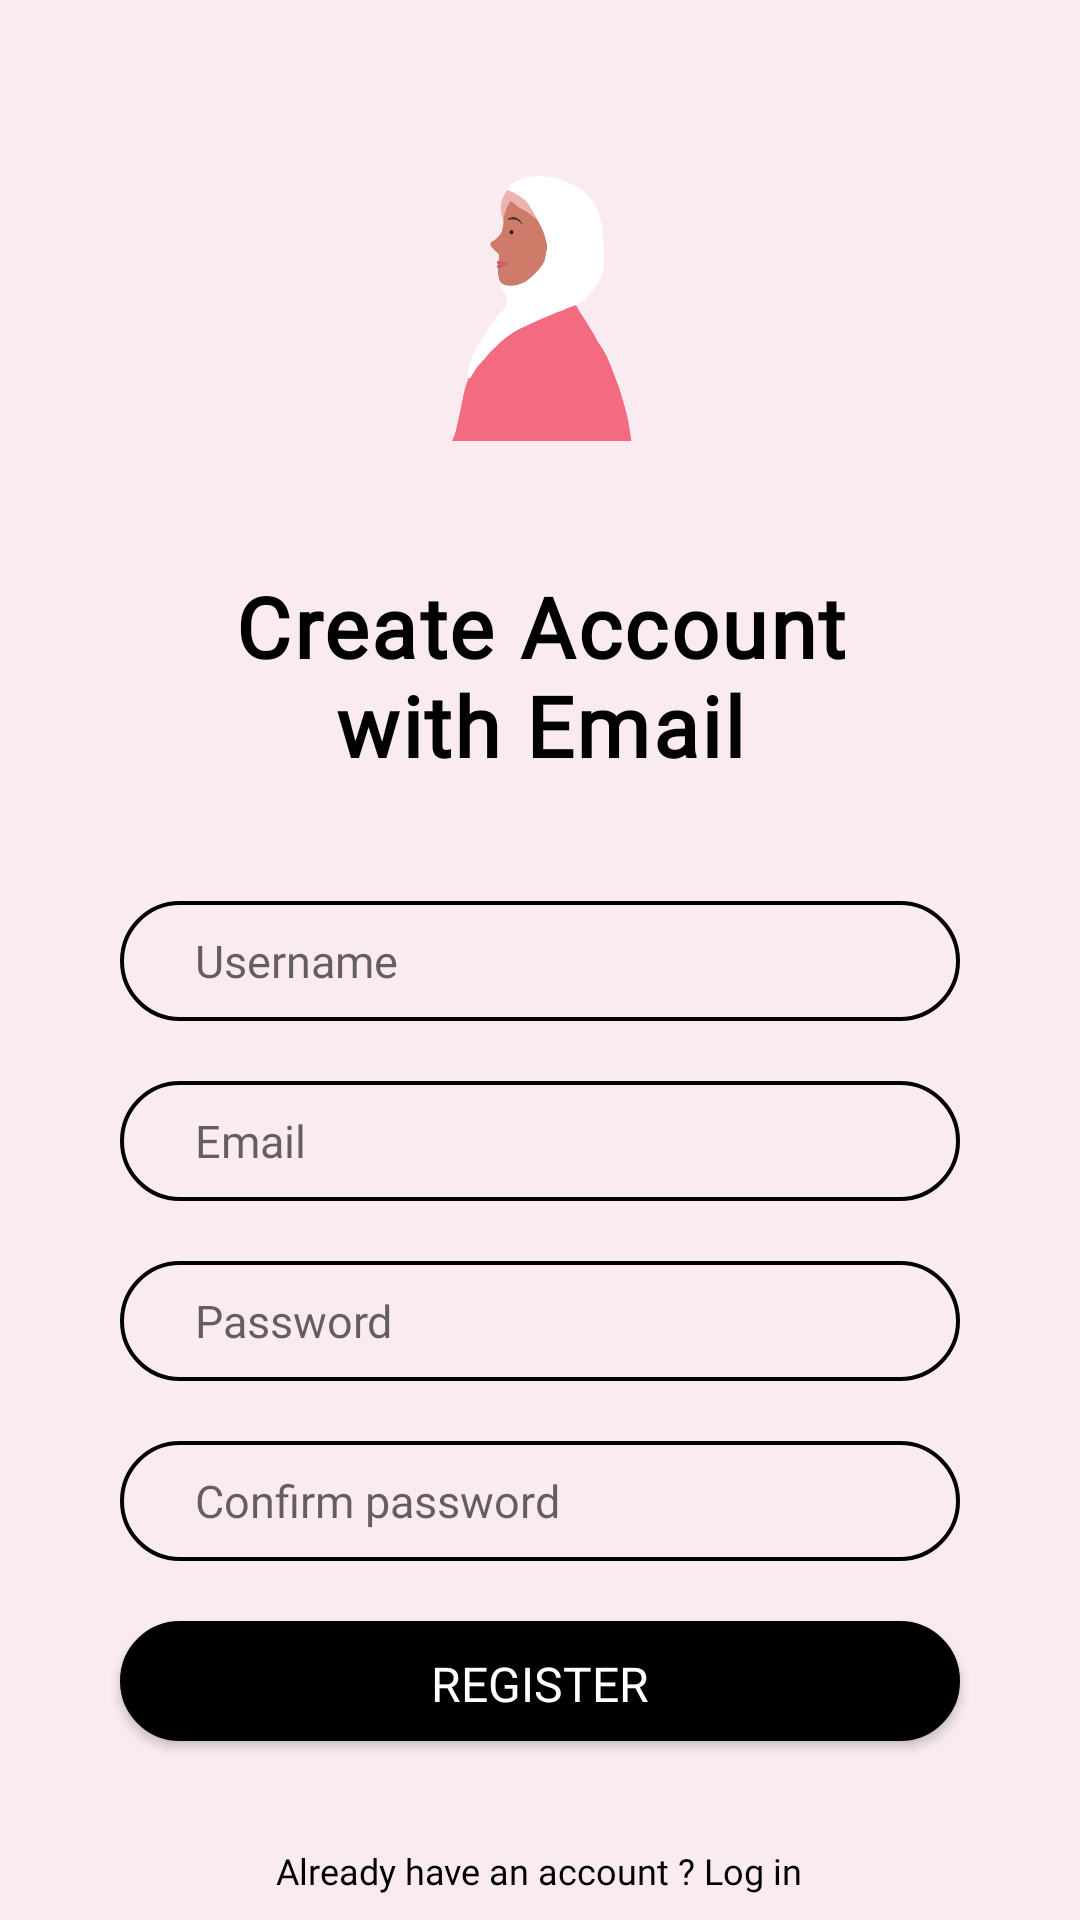

Icon click points for this 1080px×1920px phone screenshot, format (x,y):
inong: (541,315)
